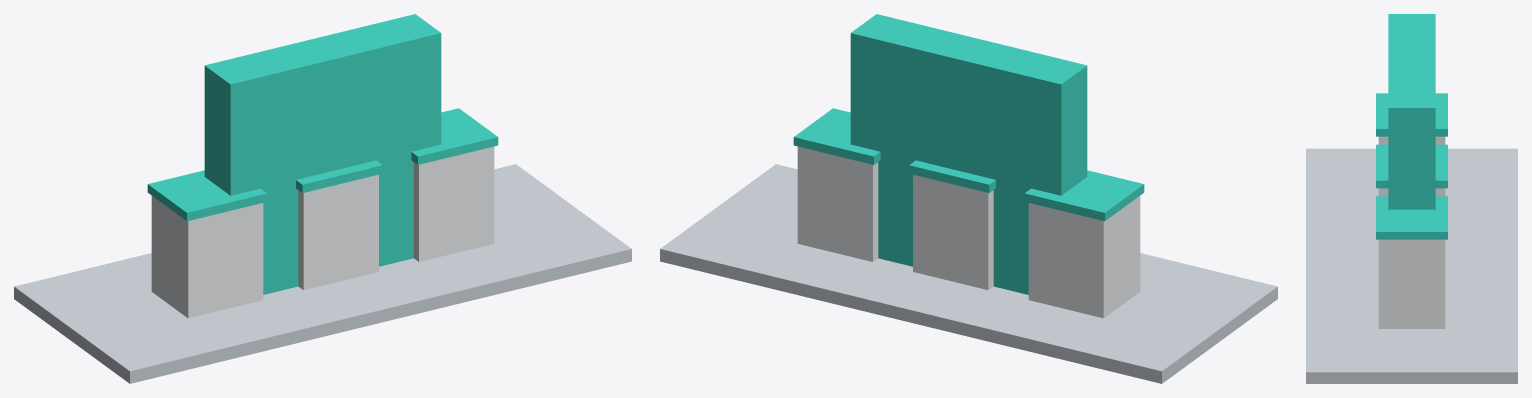
3 views of the same model, side by side, from view 1: azimuth 30°, elevation 25°; view 2: azimuth 150°, elevation 25°; view 3: azimuth 270°, elevation 25° (orthographic). The views are drawn at different scales.
Parts seen in each view (by area): view 1: Exhibition Booth Concept; view 2: Exhibition Booth Concept; view 3: Exhibition Booth Concept.
Boxes of the visible parts, bbox=[...] form: Exhibition Booth Concept: bbox=[14, 14, 631, 383]; Exhibition Booth Concept: bbox=[660, 14, 1277, 383]; Exhibition Booth Concept: bbox=[1306, 14, 1517, 383].
Size of the model in its own units: 5 by 2.2 by 2.
